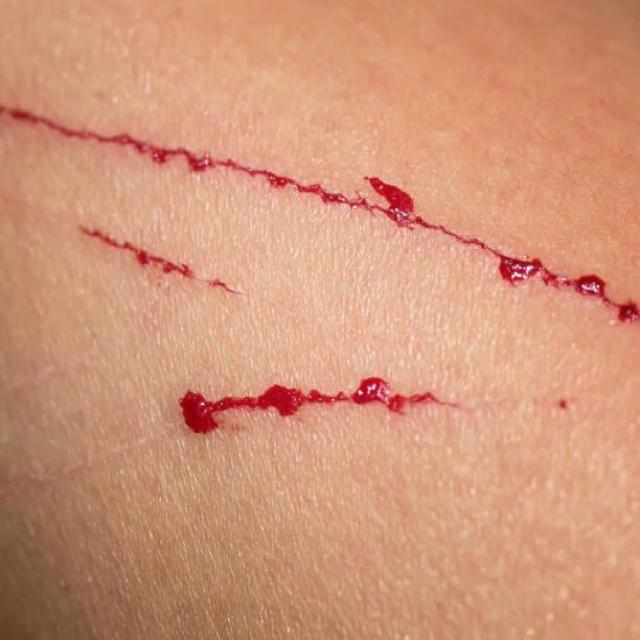Cut: (0, 96, 639, 323), (153, 358, 494, 447), (52, 224, 262, 286)
